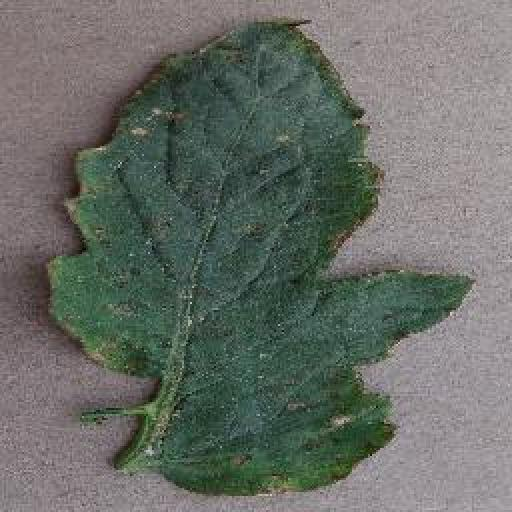Bacterial Spot: (43, 13, 480, 500)
